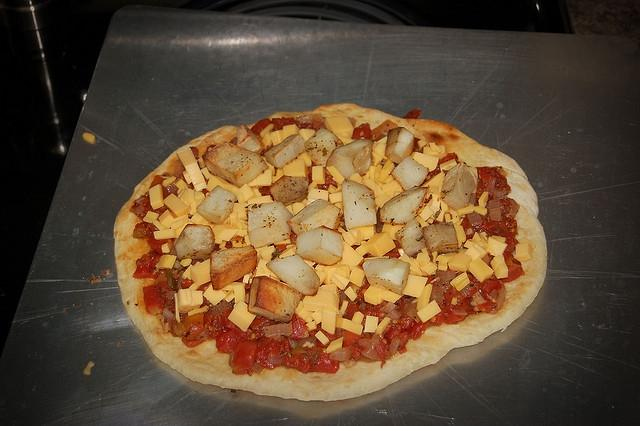onion: (428, 269, 446, 307), (264, 324, 292, 340), (458, 280, 476, 298), (488, 198, 502, 221), (329, 347, 352, 361), (362, 345, 381, 361), (296, 113, 322, 124), (496, 283, 506, 311), (378, 302, 396, 314), (192, 328, 210, 340), (407, 308, 421, 323), (468, 211, 482, 226), (172, 320, 185, 336), (490, 268, 502, 284), (358, 338, 379, 347), (442, 271, 456, 284), (386, 308, 402, 319), (267, 354, 284, 364), (390, 338, 400, 355), (493, 187, 507, 199), (132, 228, 148, 238), (162, 308, 175, 320), (136, 202, 145, 216), (404, 301, 414, 311), (452, 310, 468, 316), (359, 302, 367, 312), (484, 202, 490, 213), (161, 287, 168, 293), (506, 206, 510, 212)
potato: (202, 141, 269, 188), (248, 276, 303, 322), (266, 254, 320, 297), (248, 201, 294, 248), (210, 245, 258, 290), (286, 198, 341, 236), (440, 160, 478, 211), (380, 186, 428, 226), (295, 226, 342, 266), (341, 178, 377, 229), (362, 258, 412, 294), (304, 128, 344, 167), (196, 185, 236, 224), (173, 224, 216, 260), (264, 134, 306, 168), (269, 176, 309, 208), (422, 222, 459, 256), (395, 218, 426, 258), (392, 156, 428, 190), (384, 126, 414, 164), (236, 123, 264, 154), (352, 142, 373, 176)
